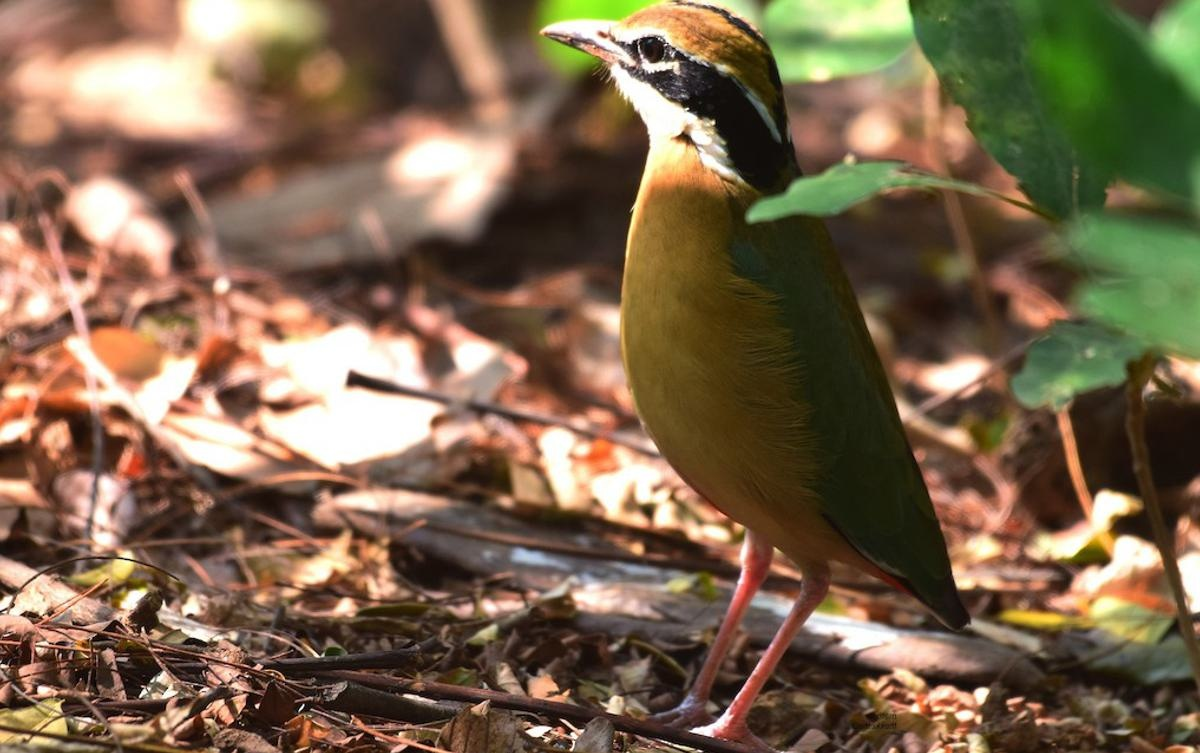pitta: (545, 19, 970, 688)
